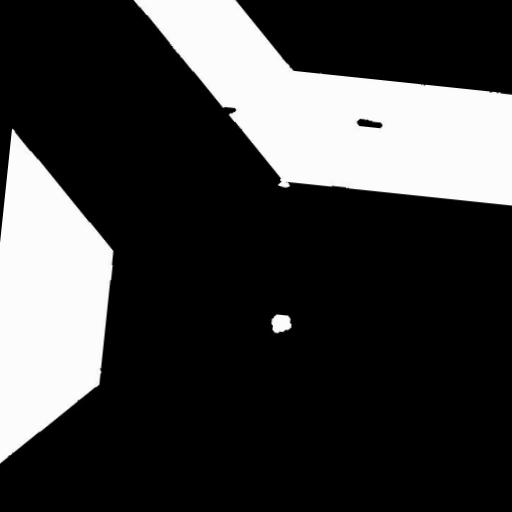copper: (348, 110, 391, 136)
mousebite: (270, 169, 298, 196)
pin-hole: (262, 306, 300, 342)
spur: (213, 98, 244, 124)
